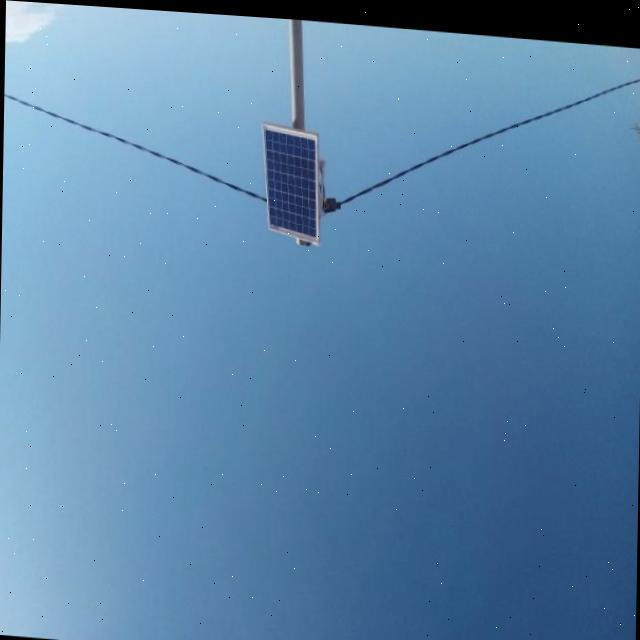Normal Solar Panel: (260, 120, 320, 240)
